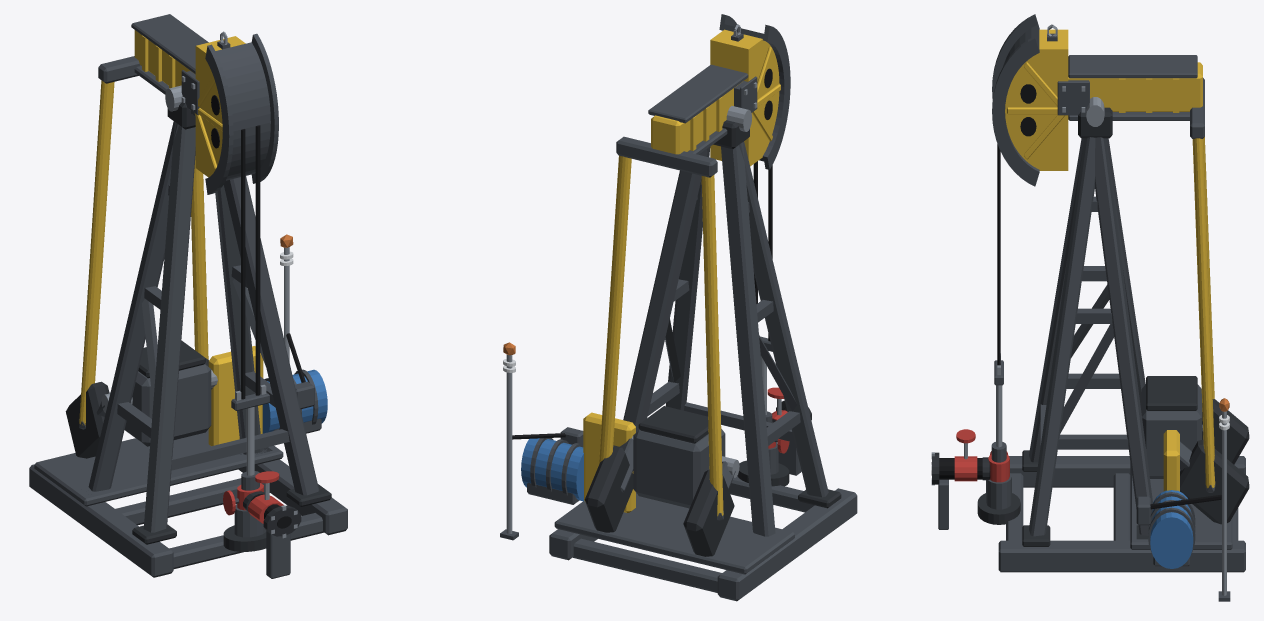
The model's file is chevalet_t2.glb.
The picture shows the model from 3 angles, left to right: view 1: azimuth 30°, elevation 25°; view 2: azimuth 150°, elevation 25°; view 3: azimuth 270°, elevation 25°; orthographic projection. The views are drawn at different scales.
Visible parts, largest first — view 1: pieces_acier_sombre.008, balancier_acier_sombre.002, bielle_jaune.002, platine.002, reducteur.002, tige_noir.002, carter.002, balancier_tete.002, balancier_chapeau.002, manivelle_fonte.002, balancier_jaune.002, moteur.004 (+9 smaller); view 2: pieces_acier_sombre.008, bielle_jaune.002, platine.002, manivelle_fonte.002, reducteur.002, balancier_tete.002, balancier_acier_sombre.002, balancier_chapeau.002, moteur.004, balancier_poutre.002, balancier_palonnier.002, carter.002 (+6 smaller); view 3: pieces_acier_sombre.008, balancier_tete.002, balancier_acier_sombre.002, bielle_jaune.002, manivelle_fonte.002, balancier_poutre.002, balancier_chapeau.002, reducteur.002, moteur.004, platine.002, balancier_jaune.002, reducteur_capot.002 (+16 smaller).
Boxes of the visible parts, left/top/right/bottom form: pieces_acier_sombre.008: left=29, top=121, right=347, bottom=578; balancier_acier_sombre.002: left=181, top=33, right=278, bottom=194; bielle_jaune.002: left=79, top=80, right=208, bottom=425; platine.002: left=34, top=429, right=283, bottom=506; reducteur.002: left=124, top=364, right=211, bottom=446; tige_noir.002: left=241, top=125, right=260, bottom=399; carter.002: left=208, top=346, right=263, bottom=446; balancier_tete.002: left=195, top=36, right=245, bottom=177; balancier_chapeau.002: left=131, top=14, right=208, bottom=73; manivelle_fonte.002: left=65, top=358, right=208, bottom=458; balancier_jaune.002: left=142, top=35, right=222, bottom=170; moteur.004: left=262, top=369, right=327, bottom=433; pieces_acier_sombre.008: left=500, top=141, right=857, bottom=601; bielle_jaune.002: left=599, top=155, right=723, bottom=516; platine.002: left=554, top=493, right=794, bottom=574; manivelle_fonte.002: left=584, top=445, right=734, bottom=556; reducteur.002: left=633, top=429, right=725, bottom=508; balancier_tete.002: left=710, top=29, right=779, bottom=166; balancier_acier_sombre.002: left=719, top=14, right=790, bottom=169; balancier_chapeau.002: left=648, top=64, right=748, bottom=123; moteur.004: left=521, top=438, right=584, bottom=501; balancier_poutre.002: left=651, top=81, right=742, bottom=154; balancier_palonnier.002: left=616, top=136, right=717, bottom=177; carter.002: left=583, top=412, right=635, bottom=512; pieces_acier_sombre.008: left=938, top=137, right=1245, bottom=601; balancier_tete.002: left=1005, top=29, right=1068, bottom=170; balancier_acier_sombre.002: left=992, top=14, right=1089, bottom=186; bielle_jaune.002: left=1192, top=137, right=1215, bottom=488; manivelle_fonte.002: left=1180, top=399, right=1249, bottom=524; balancier_poutre.002: left=1068, top=62, right=1202, bottom=111; balancier_chapeau.002: left=1068, top=55, right=1197, bottom=78; reducteur.002: left=1141, top=384, right=1201, bottom=478; moteur.004: left=1150, top=490, right=1193, bottom=568; platine.002: left=1130, top=463, right=1232, bottom=549; balancier_jaune.002: left=1007, top=62, right=1179, bottom=159; reducteur_capot.002: left=1146, top=376, right=1197, bottom=410.
Bounding box in the file's own units: 2 × 3.47 × 2.
